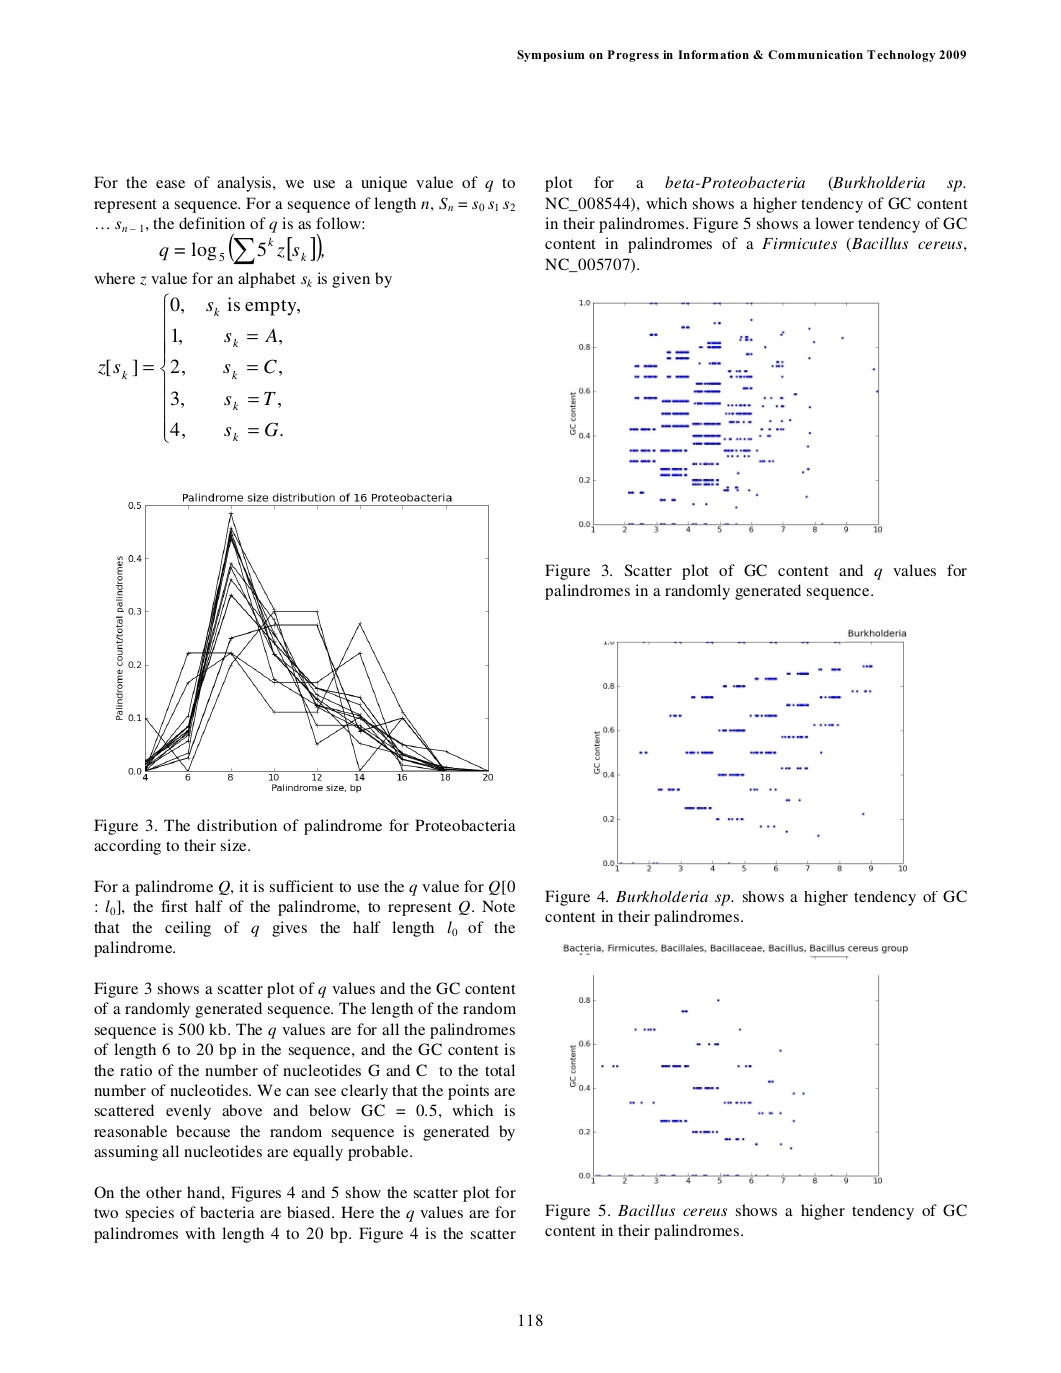figure: (116, 491, 491, 793), (570, 299, 880, 533), (594, 640, 906, 871), (570, 974, 880, 1184)
formula: (98, 292, 299, 444), (159, 233, 323, 264)
